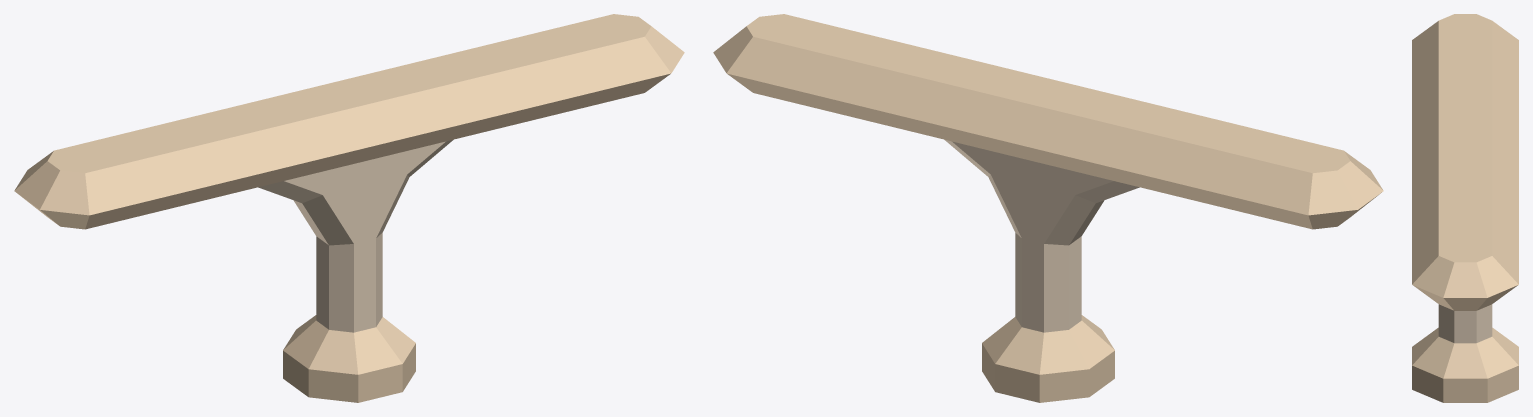
File: temple_Balcony_Railing_Straight.glb
3 renders of one model, left to right at view 1: azimuth 30°, elevation 25°; view 2: azimuth 150°, elevation 25°; view 3: azimuth 270°, elevation 25°, orthographic. The views are drawn at different scales.
Visible parts, largest first — view 1: object1; view 2: object1; view 3: object1.
Boxes of the visible parts, x1=… form: object1: x1=14, y1=14, x2=684, y2=402; object1: x1=713, y1=14, x2=1383, y2=402; object1: x1=1412, y1=14, x2=1518, y2=402.
Size of the model in its own units: 1.2 by 0.5 by 0.2.
